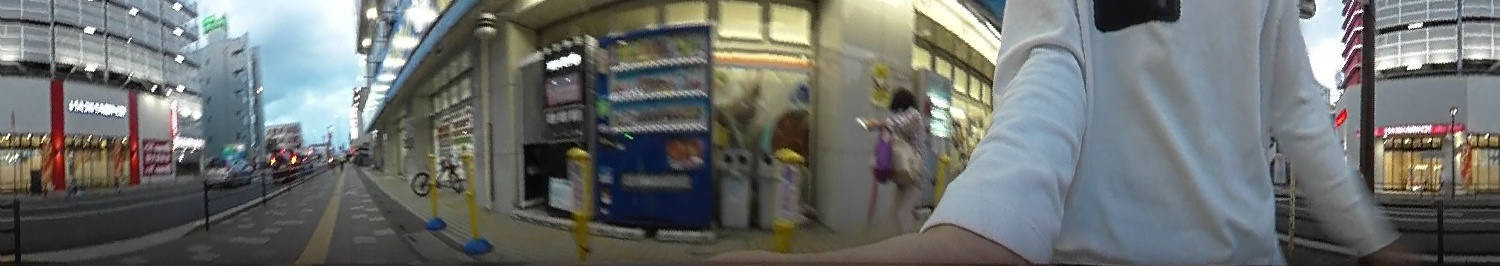difficult_person: (336, 143, 347, 169)
person: (871, 85, 921, 236)
